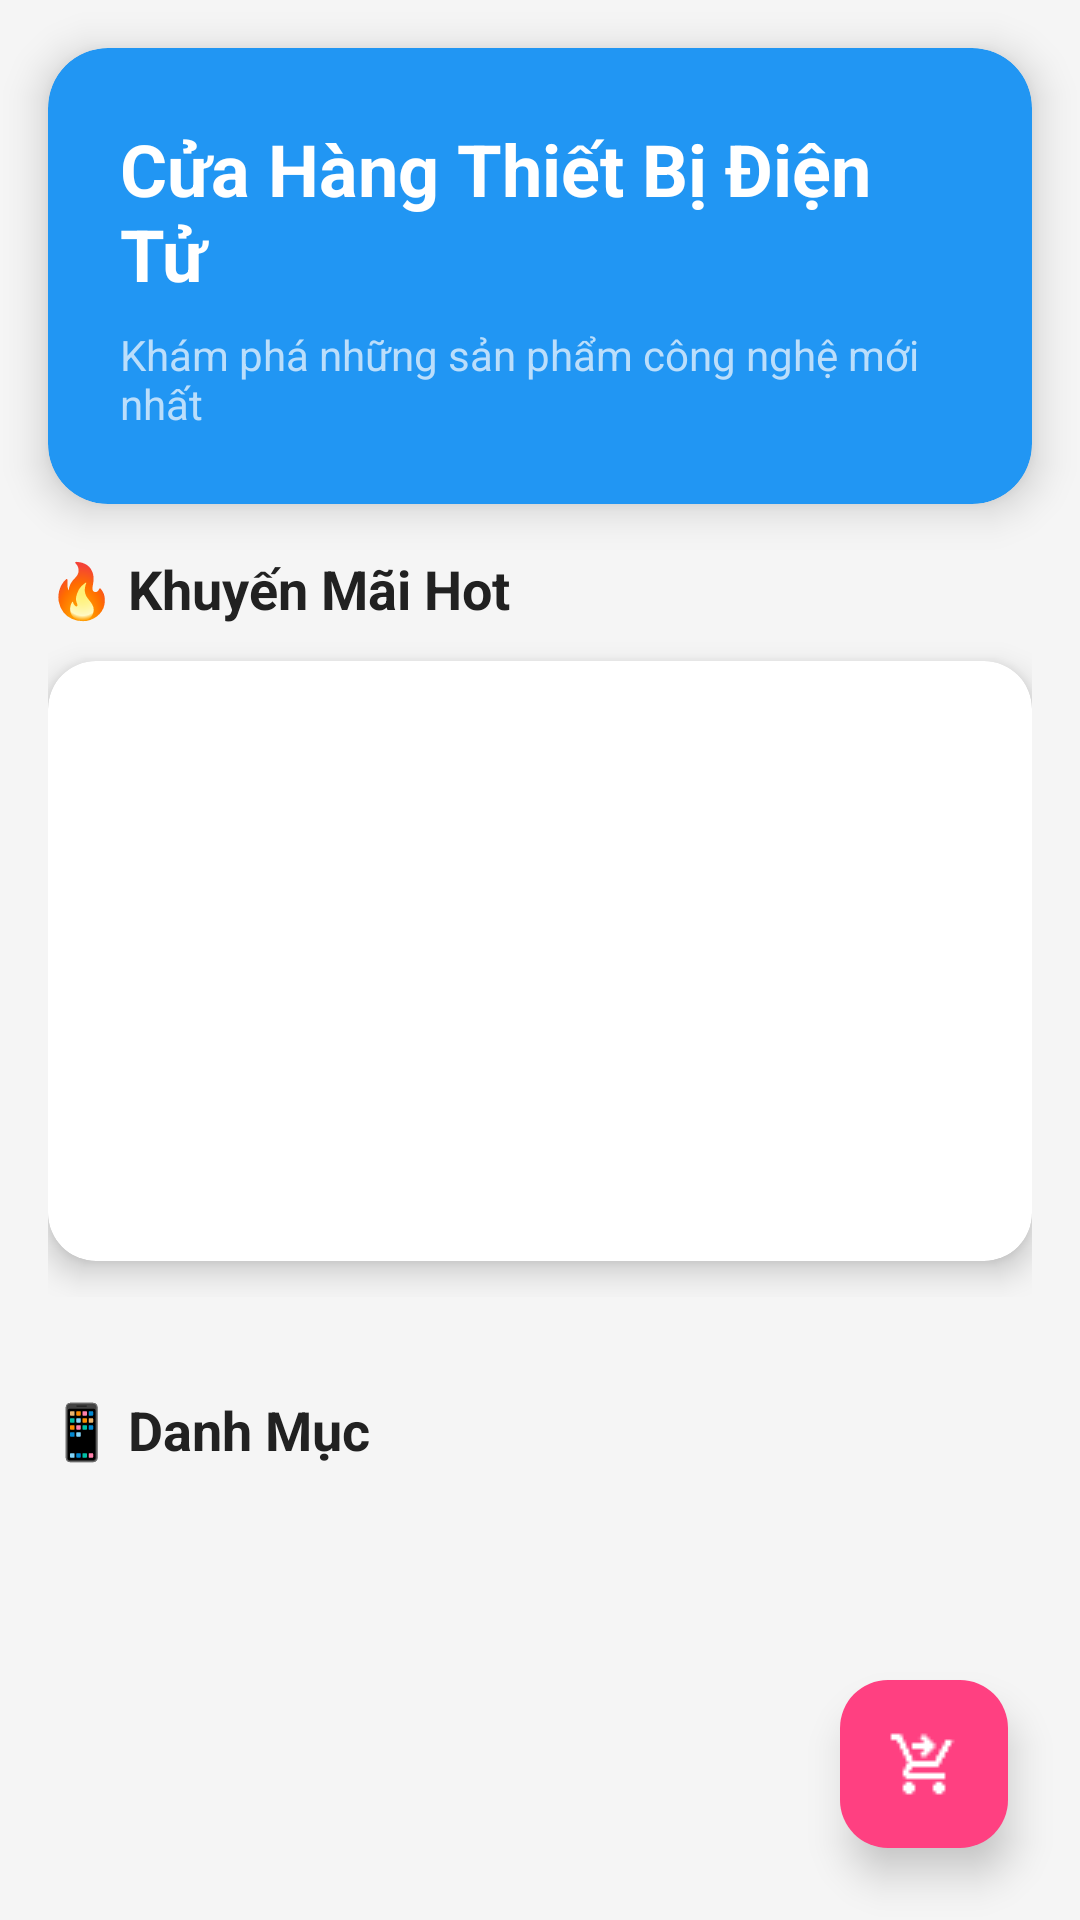

Locate icon controls on the screen. Image size 1080*1920, boxes as box=[x1, y1, x2, y2].
View Cart: box=[840, 1680, 1008, 1848]
